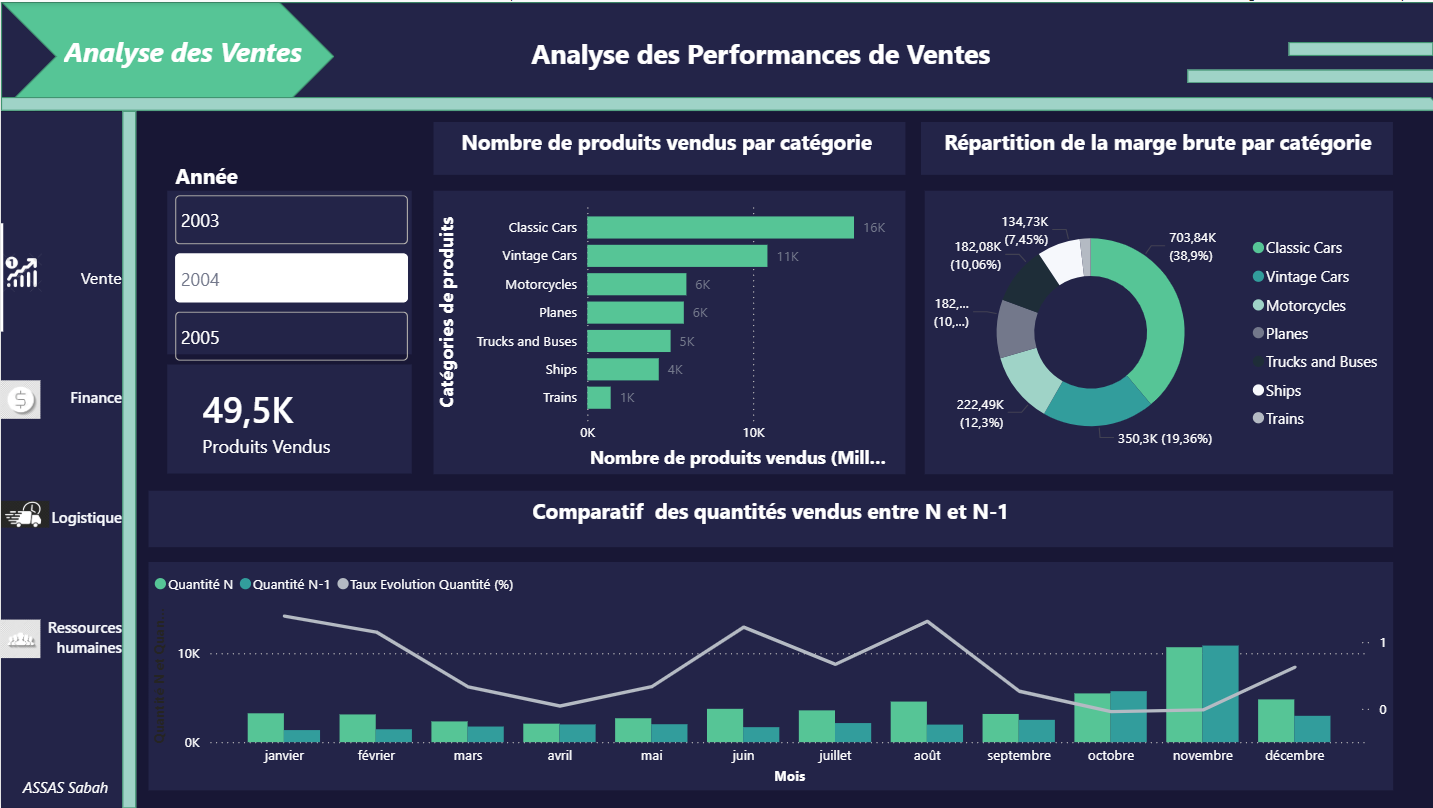

The page's visual inventory and layout, read from the dashboard file:
{"tool":"powerbi","page":{"name":"Vente","canvas":[1280,720],"ordinal":0},"visuals":[{"type":"shape","box":[0,0,1280.3,97.4],"z":0},{"type":"image","box":[0,305,34.8,98.5],"z":0,"group":"g1"},{"type":"shape","box":[0,0,297.8,97.4],"z":1000},{"type":"image","box":[0,523.5,34.8,90.1],"z":1000,"group":"g1"},{"type":"image","box":[1.2,216.1,34.8,50.4],"z":2000,"group":"g1"},{"type":"shape","box":[0,85.1,1280.3,12.3],"z":2000},{"type":"shape","box":[1059.4,60.4,220.9,12.3],"z":3000},{"type":"image","box":[0,428.6,43.2,57.6],"z":3000,"group":"g1"},{"type":"shape","box":[0,98.5,110.5,622],"z":4000},{"type":"textbox","box":[51.2,23.8,228.8,61.2],"z":5000},{"type":"shape","box":[108.5,97.4,12.5,623.3],"z":6000},{"type":"shape","box":[148.9,324.2,218.4,97.4],"z":7000},{"type":"shape","box":[386.8,168.3,421.6,253.2],"z":8000},{"type":"shape","box":[825,168.3,418.8,253.2],"z":9000},{"type":"shape","box":[132.1,500.7,1111.9,204.1],"z":10000},{"type":"barChart","fields":{"Y":["Sum(classicmodels orderdetails.quantityOrdered)"],"Category":["classicmodels productlines.productLine"]},"box":[386.8,168.3,421.6,253.2],"z":11000},{"type":"cardVisual","fields":{"Data":["orderdetails.Produits Vendus"]},"box":[150.3,327,218.4,94.6],"z":12000},{"type":"shape","box":[148.9,168.3,218.4,146.1],"z":13000},{"type":"advancedSlicerVisual","fields":{"Values":["Calendrier.Année"]},"box":[150.3,143.3,218.4,185],"z":14000},{"type":"shape","box":[386.8,107.1,421.6,47.3],"z":15000},{"type":"textbox","box":[386.8,107.1,421.6,50.1],"z":16000},{"type":"shape","box":[1150.6,36.2,129.4,12.5],"z":17000},{"type":"donutChart","fields":{"Y":["orderdetails.Marge Brute"],"Category":["productlines.productLine"]},"box":[825,168.3,418.8,253.2],"z":18000},{"type":"shape","box":[822.3,107.1,421.6,47.3],"z":19000},{"type":"textbox","box":[825,107.1,421.6,50.1],"z":20000},{"type":"lineClusteredColumnComboChart","fields":{"Category":["Calendrier.Mois"],"Y":["orderdetails.Produits Vendus","orderdetails.Quantité N-1"],"Y2":["orderdetails.Taux Evolution Quantité (%)"]},"box":[132.1,500.7,1111.9,204.1],"z":21000},{"type":"shape","box":[132.1,437.1,1111.9,50.4],"z":22000},{"type":"textbox","box":[132.1,437.1,1111.9,49.2],"z":23000},{"type":"textbox","box":[297.8,24,761.3,61.2],"z":24000},{"type":"group","id":"g1","title":"Groupe 1","box":[0,216.1,43.2,397.4],"z":25000},{"type":"pageNavigator","box":[0,197.6,108.5,421.6],"z":26000},{"type":"textbox","box":[0,688,115.3,31.2],"z":27000}]}

Visuals, with their boxes on the page's 1280x720 design canvas (x1, y1, x2, y2). These are canvas units, not pixel positions in the 1433x808 screenshot, which may show the page scaled, cropped or inside an application window:
shape: crop(0, 0, 1280, 97)
image: crop(0, 305, 35, 404)
shape: crop(0, 0, 298, 97)
image: crop(0, 524, 35, 614)
image: crop(1, 216, 36, 266)
shape: crop(0, 85, 1280, 97)
shape: crop(1059, 60, 1280, 73)
image: crop(0, 429, 43, 486)
shape: crop(0, 98, 110, 720)
textbox: crop(51, 24, 280, 85)
shape: crop(108, 97, 121, 721)
shape: crop(149, 324, 367, 422)
shape: crop(387, 168, 808, 422)
shape: crop(825, 168, 1244, 422)
shape: crop(132, 501, 1244, 705)
barChart - Sum(classicmodels orderdetails.quantityOrdered) x classicmodels productlines.productLine: crop(387, 168, 808, 422)
cardVisual - orderdetails.Produits Vendus: crop(150, 327, 369, 422)
shape: crop(149, 168, 367, 314)
advancedSlicerVisual - Calendrier.Année: crop(150, 143, 369, 328)
shape: crop(387, 107, 808, 154)
textbox: crop(387, 107, 808, 157)
shape: crop(1151, 36, 1280, 49)
donutChart - orderdetails.Marge Brute x productlines.productLine: crop(825, 168, 1244, 422)
shape: crop(822, 107, 1244, 154)
textbox: crop(825, 107, 1247, 157)
lineClusteredColumnComboChart - Calendrier.Mois x orderdetails.Produits Vendus: crop(132, 501, 1244, 705)
shape: crop(132, 437, 1244, 488)
textbox: crop(132, 437, 1244, 486)
textbox: crop(298, 24, 1059, 85)
"Groupe 1" group: crop(0, 216, 43, 614)
pageNavigator: crop(0, 198, 108, 619)
textbox: crop(0, 688, 115, 719)
